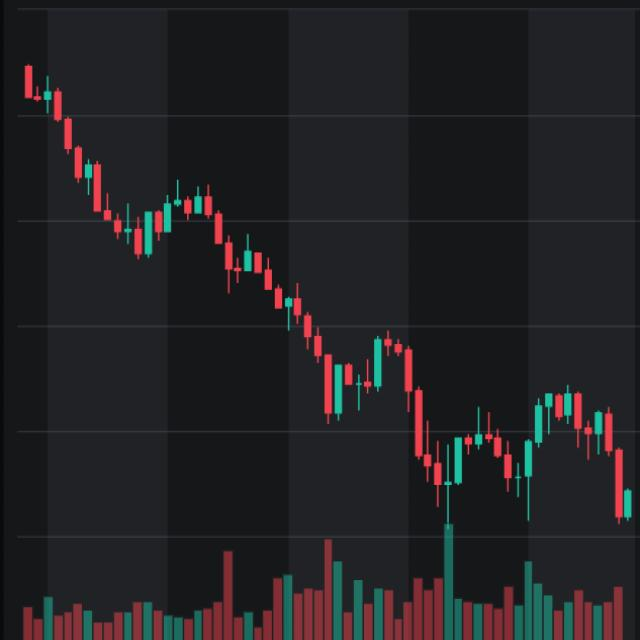Channel-down: (3, 53, 637, 585)
